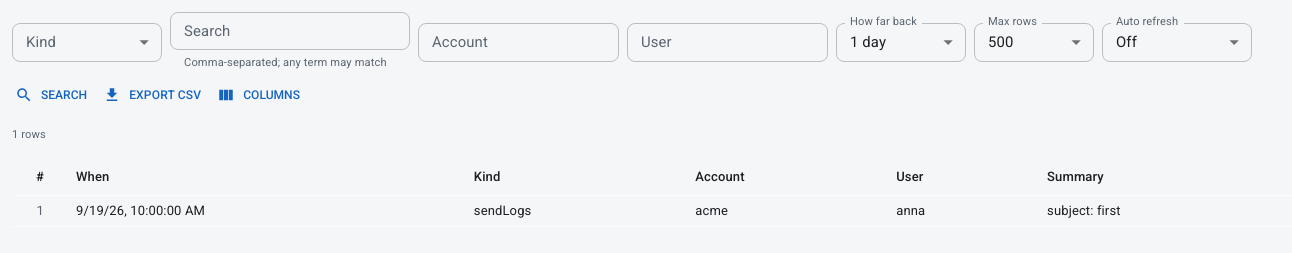
Scenario: SearchPanel › drops an older answer that arrives after a newer one
The width and height of the screenshot is (1292, 253).
Expected: the text "subject: first" is shown, [1047,203,1121,218]
Type "old" into the field labelled "Search" at (290, 31), box [170,12,410,50]
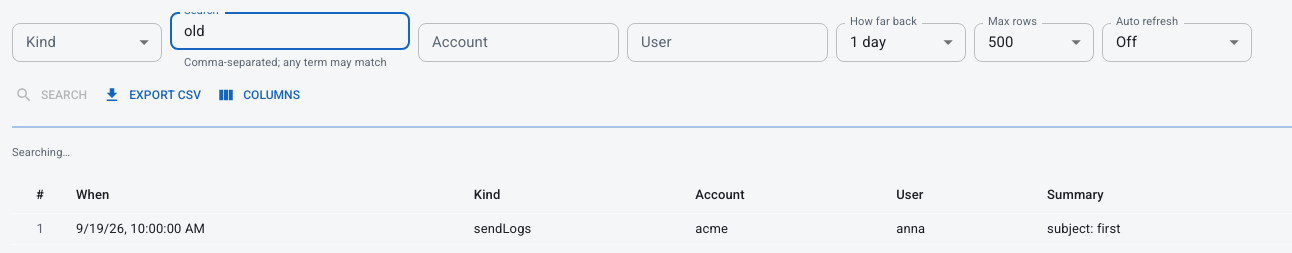
Replace the text in the field labelled "Search" with "new" at (290, 31), box [170,12,410,50]
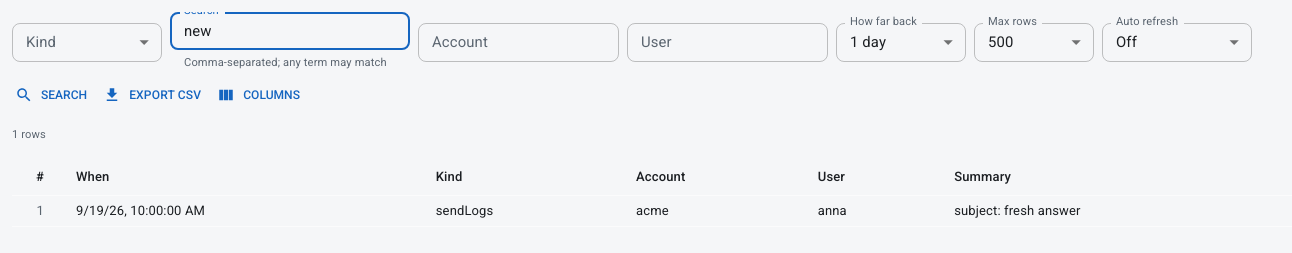
Expected: the text "subject: fresh answer" is shown, [954,203,1081,218]
